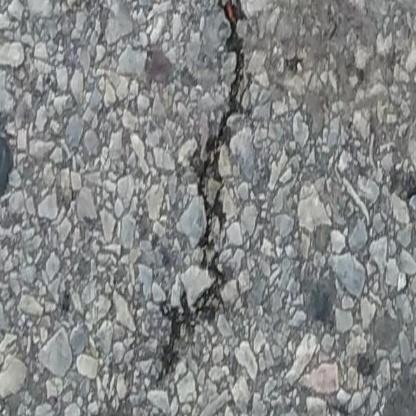Cracks: (148, 0, 255, 378)
